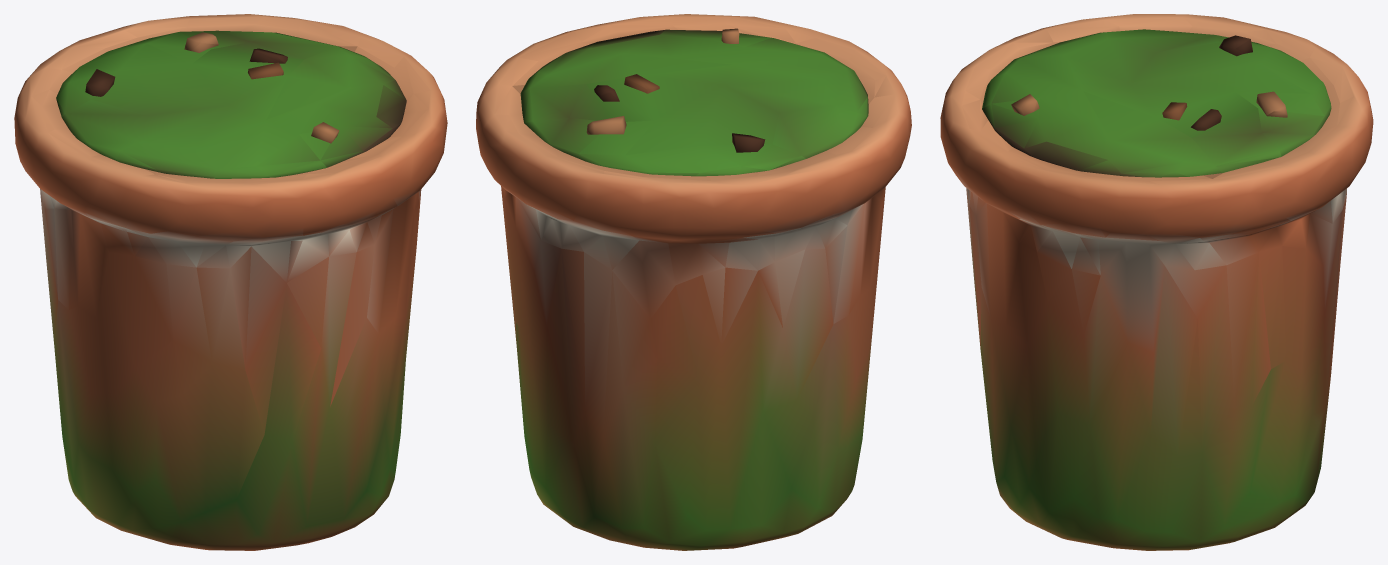
The model's file is canopy_pot_c_lod2.glb.
3 renders of one model, left to right at view 1: azimuth 30°, elevation 25°; view 2: azimuth 150°, elevation 25°; view 3: azimuth 270°, elevation 25°, orthographic.
Parts seen in each view (by area): view 1: canopy_pot_c.001; view 2: canopy_pot_c.001; view 3: canopy_pot_c.001.
Boxes of the visible parts, left/top/right/bottom form: canopy_pot_c.001: left=14, top=14, right=447, bottom=550; canopy_pot_c.001: left=476, top=14, right=911, bottom=550; canopy_pot_c.001: left=940, top=14, right=1373, bottom=550.
Bounding box in the file's own units: 10.05 × 10.48 × 10.03.
